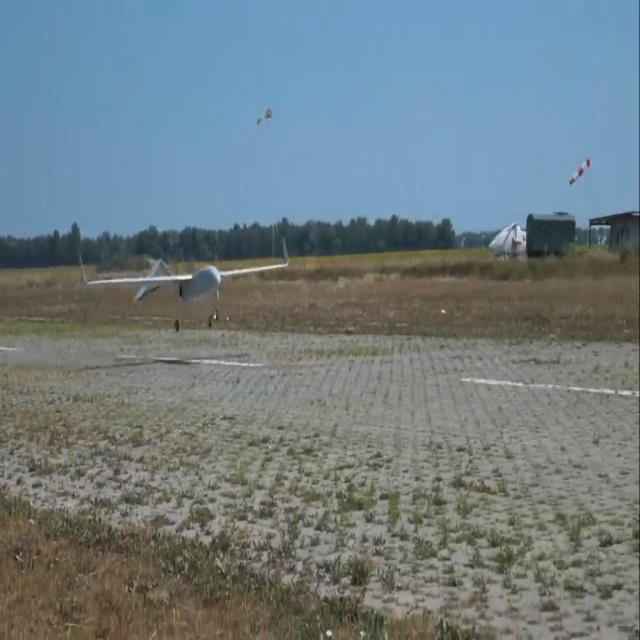drones: (69, 218, 294, 358)
